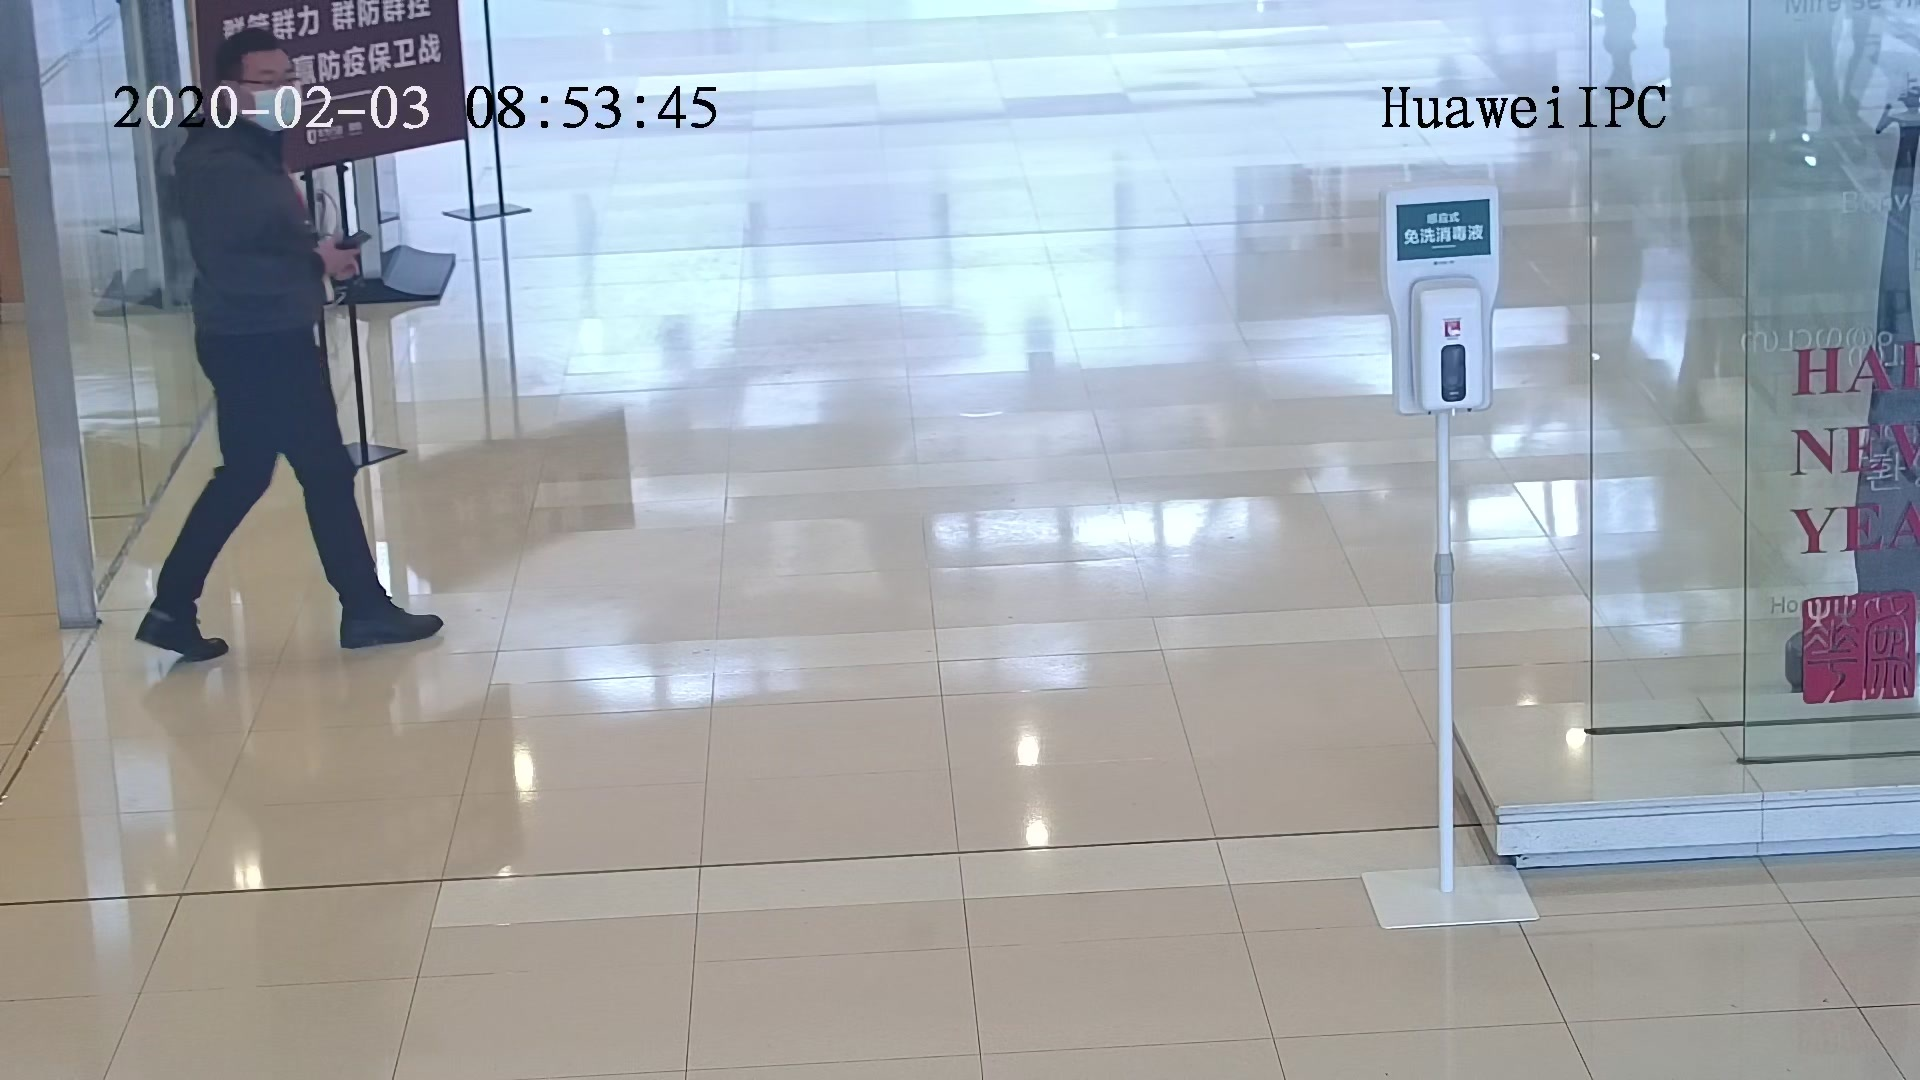face: (240, 54, 300, 134)
mask: (254, 84, 308, 132)
person: (172, 22, 302, 180)
